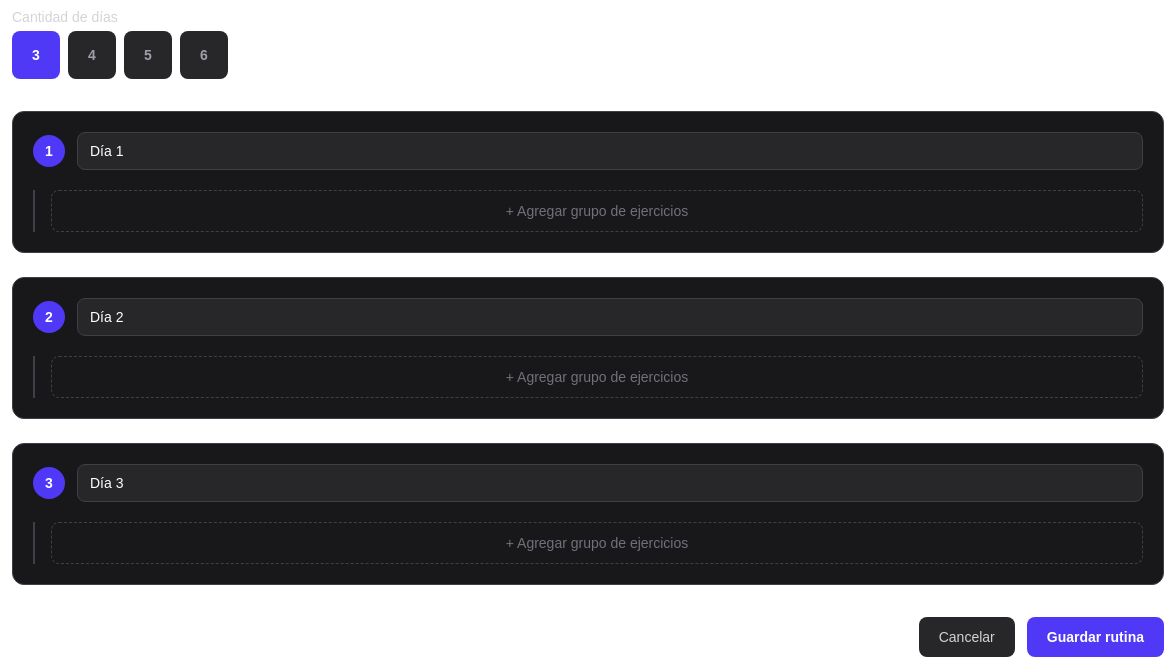
Test: RoutineForm › shows a validation error when submitting with an empty name
The width and height of the screenshot is (1176, 657).
(page scrolled)
Step 1. Click the button "Guardar rutina" → (1095, 637), box x1=1027 y1=617 x2=1164 y2=656
(page scrolled)
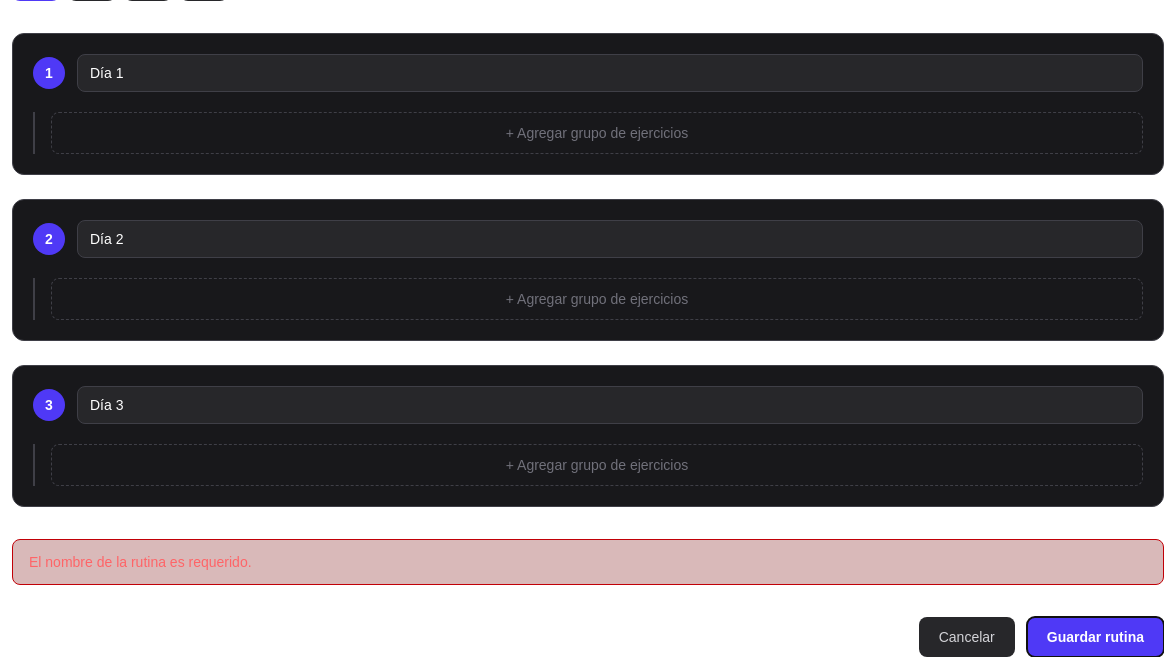
Expected: the text "El nombre de la rutina es requerido." is shown, x1=12 y1=539 x2=1164 y2=585
